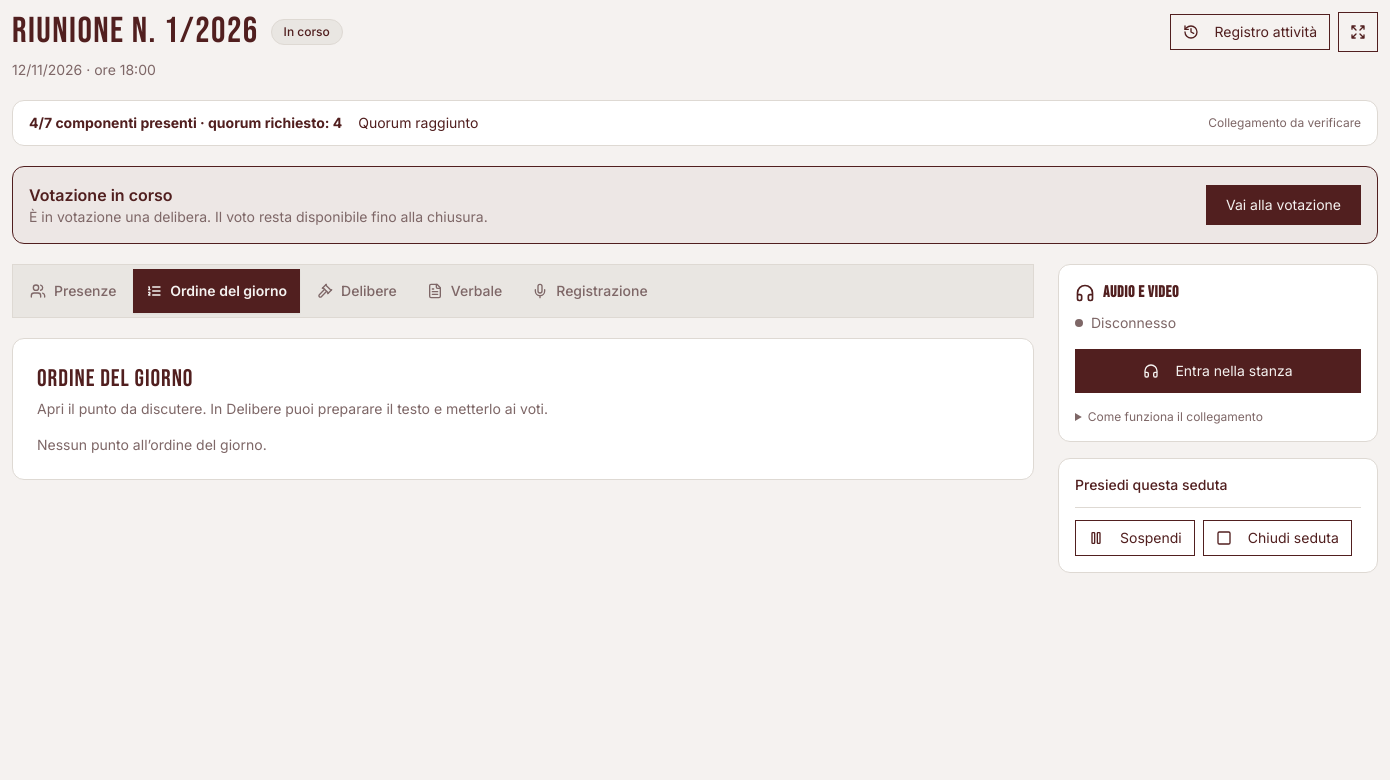
Test: Focused Board workspace › takes an open ballot to its own workspace, including corrected minutes (null)
This screenshot has width=1390, height=780.
Step 1. Click the button "Vai alla votazione" → (1284, 205), box x1=1206 y1=185 x2=1361 y2=225
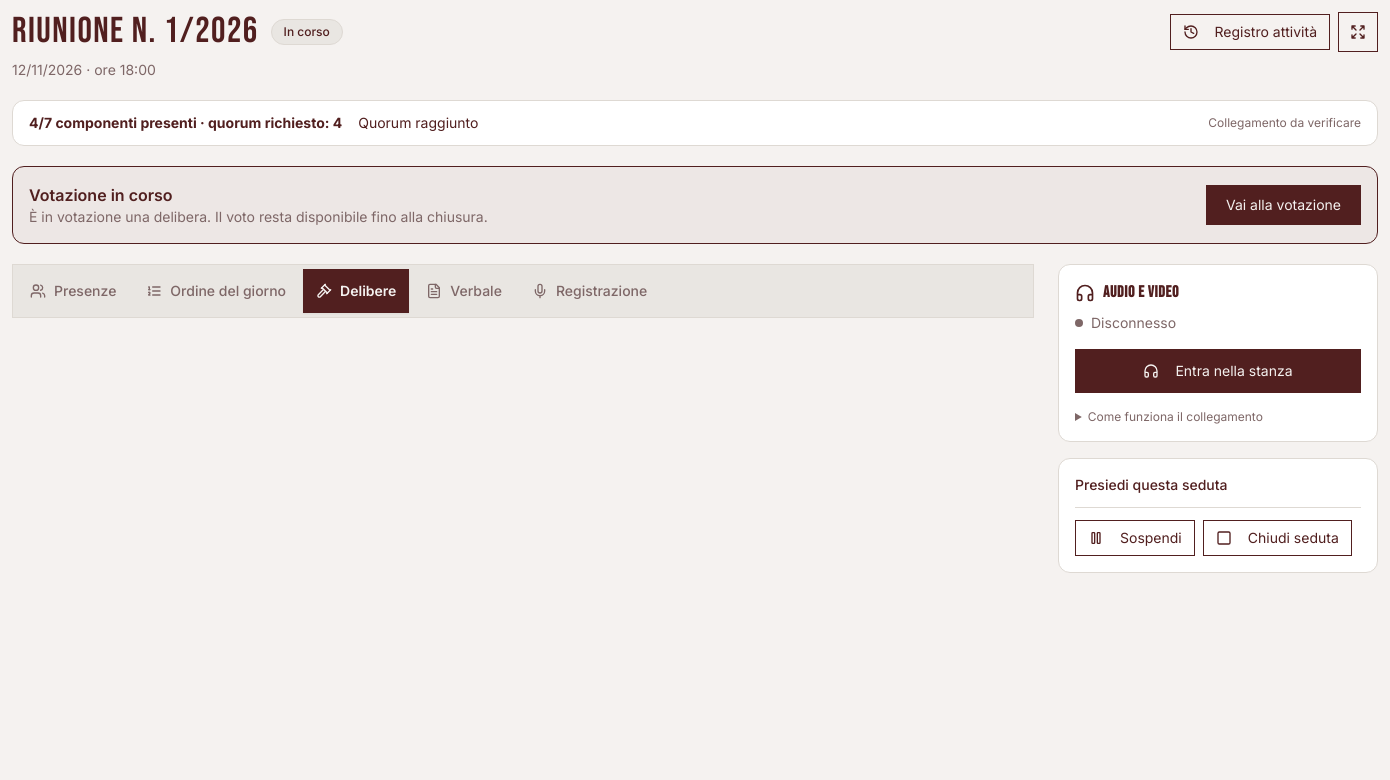
Result: the tab "Delibere" is selected at x1=303 y1=269 x2=409 y2=313
